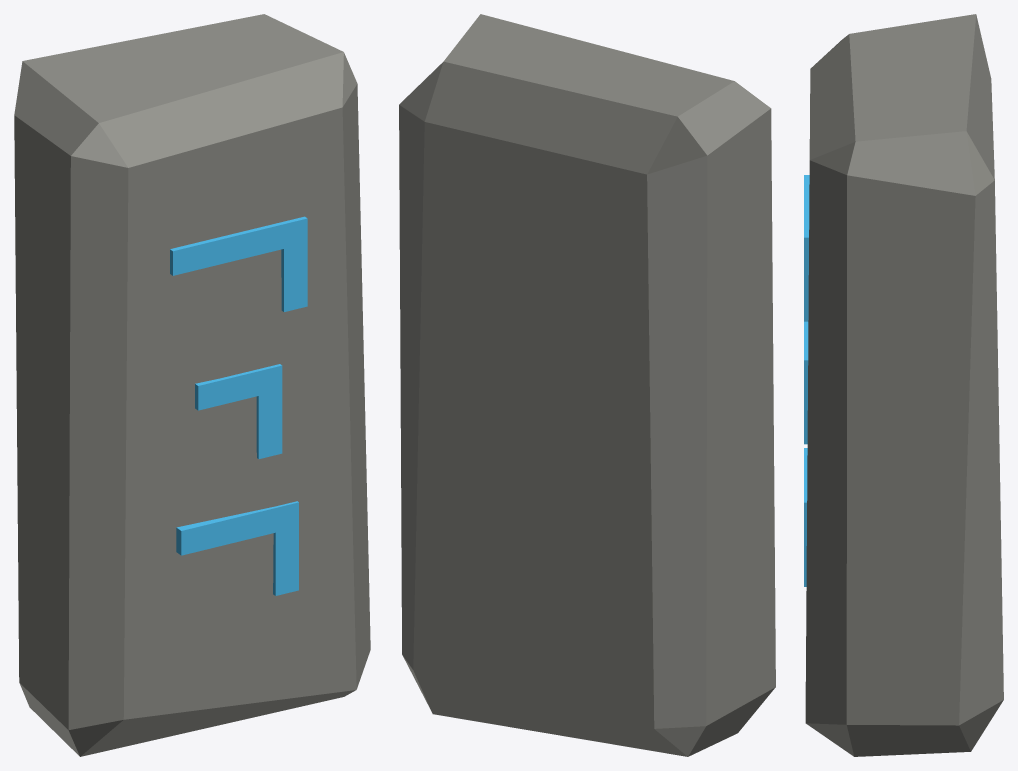
File: RuneStone.fbx
3 views of the same model, side by side, from view 1: azimuth 30°, elevation 25°; view 2: azimuth 150°, elevation 25°; view 3: azimuth 270°, elevation 25° (orthographic). The views are drawn at different scales.
Parts seen in each view (by area): view 1: RuneStone; view 2: RuneStone; view 3: RuneStone.
Boxes of the visible parts, x1,y1,x2,y2 form: RuneStone: (14, 14, 370, 756); RuneStone: (399, 14, 775, 756); RuneStone: (804, 14, 1003, 756).
Bounding box in the file's own units: 1.83 × 3.71 × 1.08.
1 material, 1 textured.
